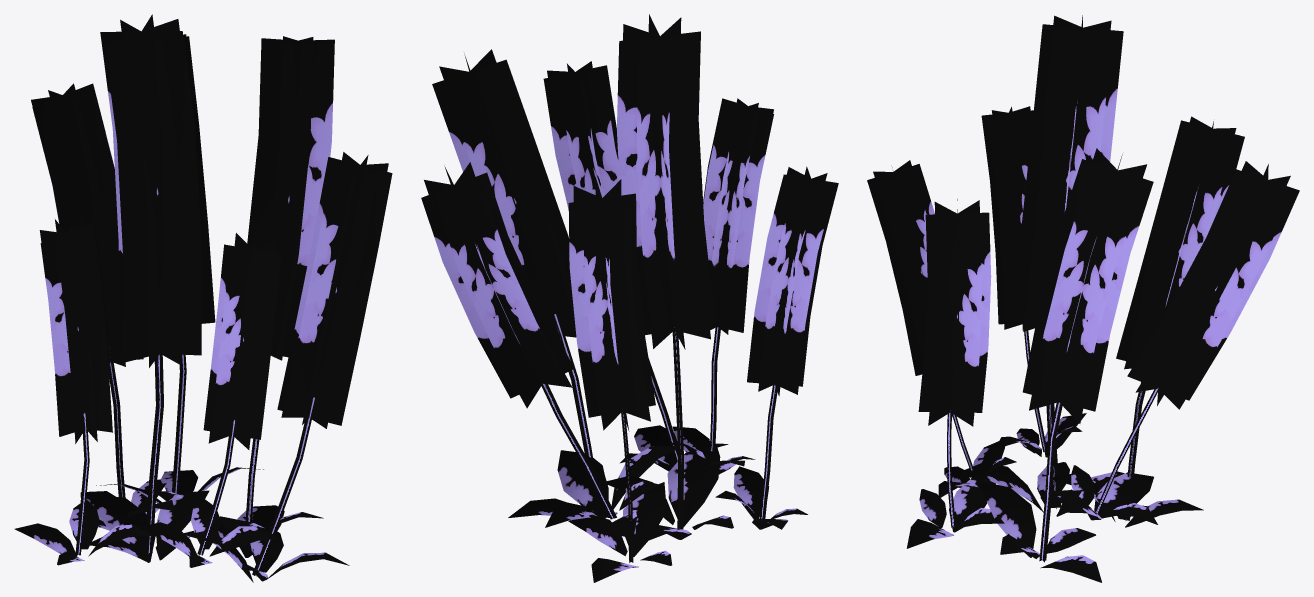
The model's file is Lavender.obj.
The picture shows the model from 3 angles, left to right: view 1: azimuth 30°, elevation 25°; view 2: azimuth 150°, elevation 25°; view 3: azimuth 270°, elevation 25°; orthographic projection. The views are drawn at different scales.
Visible parts, largest first — view 1: Foliage:pPlane228; view 2: Foliage:pPlane228; view 3: Foliage:pPlane228.
Part boxes in pixels (x1,y1,x2,y2): Foliage:pPlane228: (14, 14, 392, 582); Foliage:pPlane228: (421, 14, 838, 582); Foliage:pPlane228: (867, 15, 1299, 582).
Bounding box in the file's own units: 2.12 × 3.12 × 2.41.
Materials: 1 (1 with a texture image).
